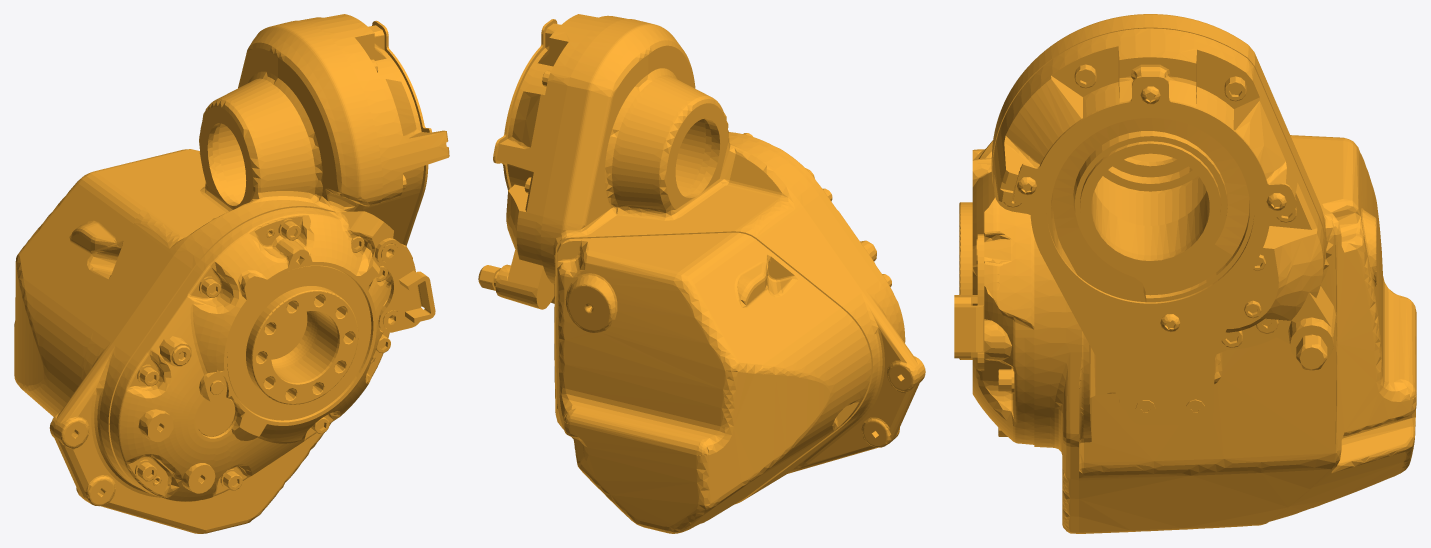
The model's file is ABBIRB1660IDLink3.dae.
3 views of the same model, side by side, from view 1: azimuth 30°, elevation 25°; view 2: azimuth 150°, elevation 25°; view 3: azimuth 270°, elevation 25° (orthographic). The views are drawn at different scales.
Parts seen in each view (by area): view 1: IRB1660IDLink4; view 2: IRB1660IDLink4; view 3: IRB1660IDLink4.
Part boxes in pixels (x1,y1,x2,y2): IRB1660IDLink4: (14,14,449,533); IRB1660IDLink4: (478,14,925,533); IRB1660IDLink4: (954,14,1416,533).
Bounding box in the file's own units: 0.3255 × 0.278 × 0.3785.
